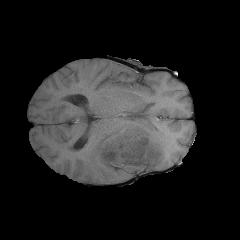glioma: (60, 118, 173, 182)
